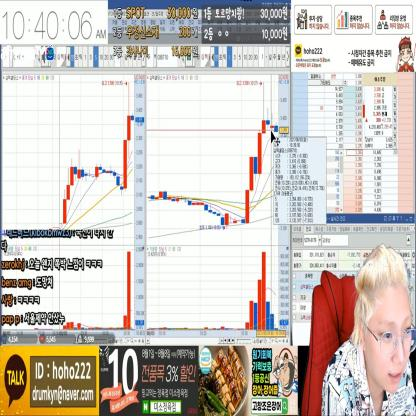streamer: (321, 243, 416, 416)
